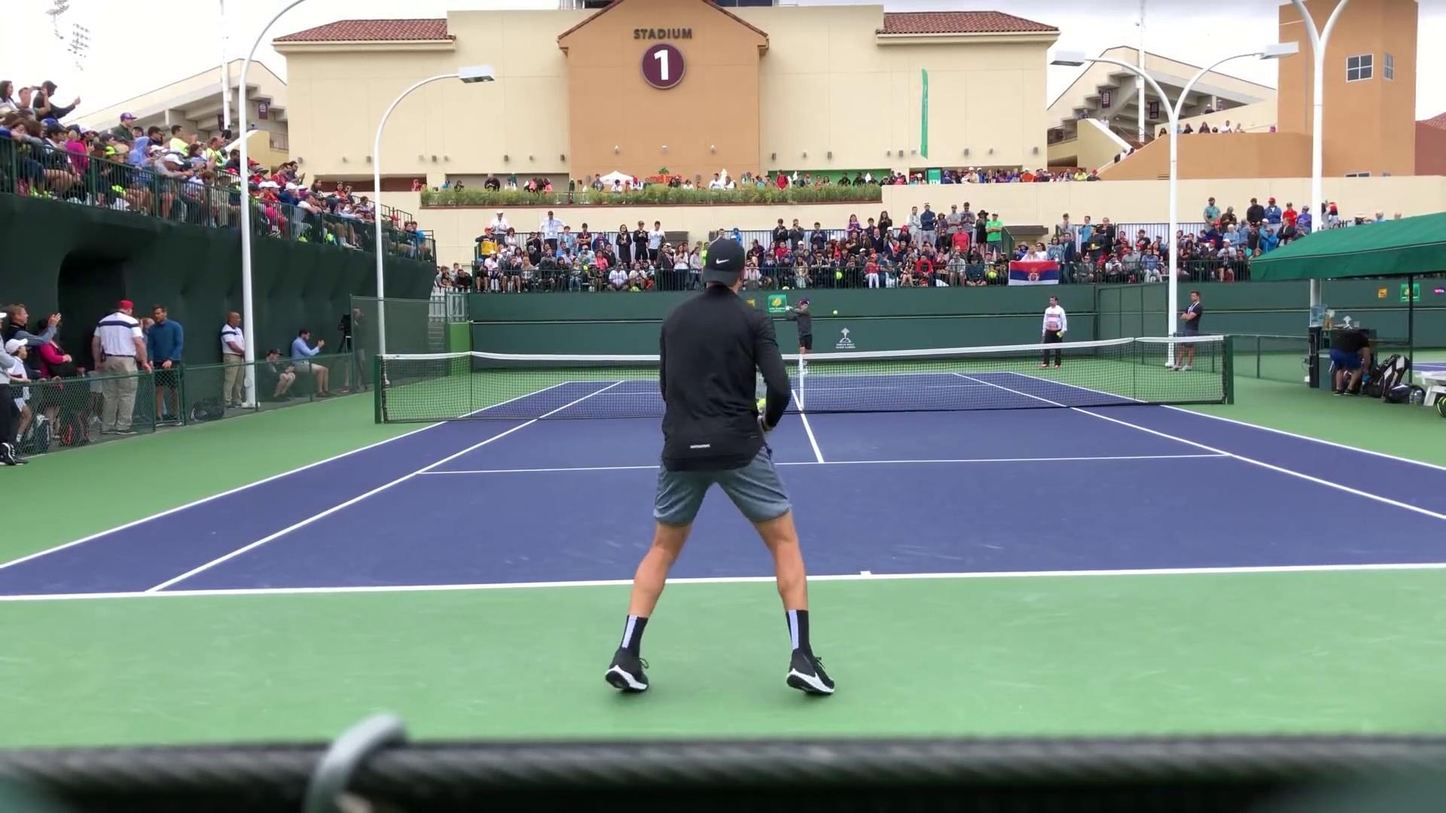ball: (832, 308, 839, 316)
